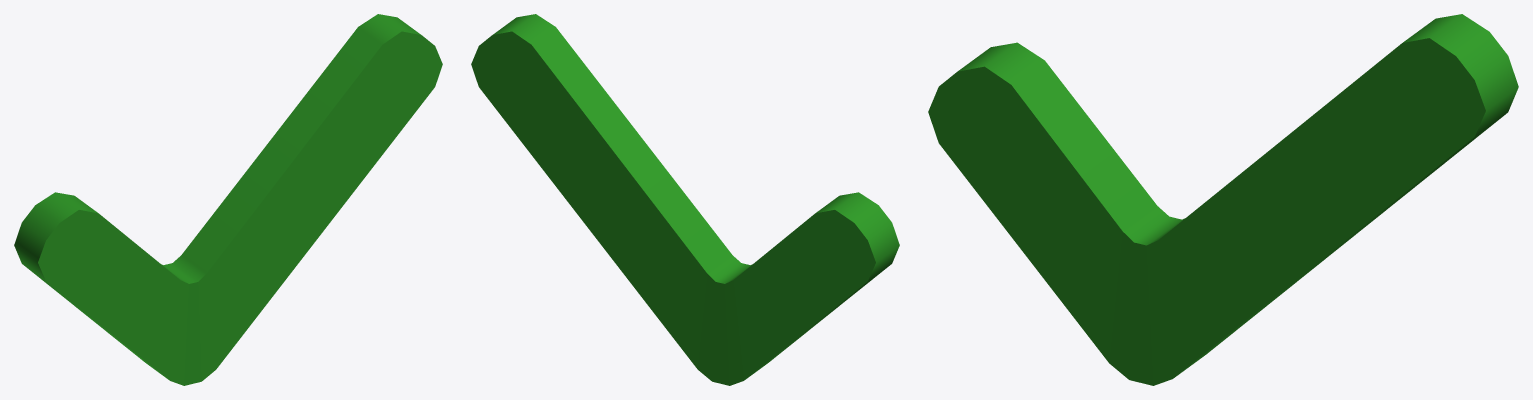
File: Checkmark.glb
3 renders of one model, left to right at view 1: azimuth 30°, elevation 25°; view 2: azimuth 150°, elevation 25°; view 3: azimuth 330°, elevation 25°, orthographic. The views are drawn at different scales.
Parts seen in each view (by area): view 1: Checkmark; view 2: Checkmark; view 3: Checkmark.
Boxes of the visible parts, bbox=[...] form: Checkmark: bbox=[14, 14, 442, 385]; Checkmark: bbox=[471, 14, 899, 385]; Checkmark: bbox=[928, 14, 1518, 385].
Size of the model in its own units: 0.4837 by 0.3439 by 0.0532.
Materials: 1 (1 with a texture image).
